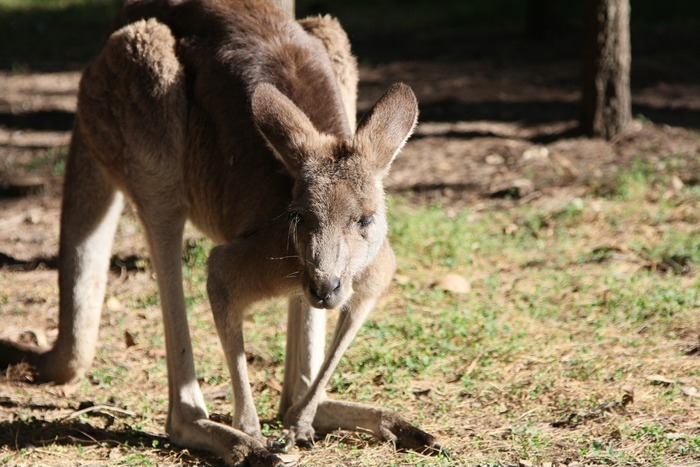kangaroo: (17, 3, 455, 458)
